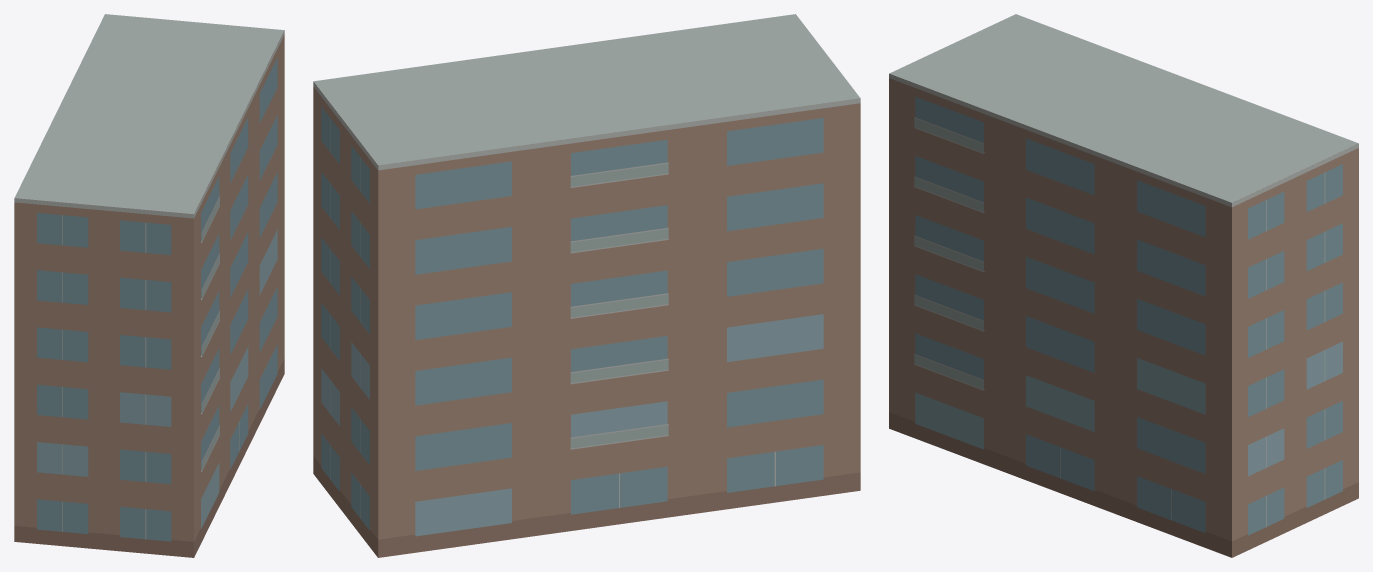
The model's file is survey-upis-32524287.glb.
3 renders of one model, left to right at view 1: azimuth 30°, elevation 25°; view 2: azimuth 150°, elevation 25°; view 3: azimuth 270°, elevation 25°, orthographic. The views are drawn at different scales.
Visible parts, largest first — view 1: survey-upis-32524287.tmp; view 2: survey-upis-32524287.tmp; view 3: survey-upis-32524287.tmp.
Part boxes in pixels (left/top/right/bottom): survey-upis-32524287.tmp: left=14, top=14, right=284, bottom=557; survey-upis-32524287.tmp: left=313, top=14, right=860, bottom=557; survey-upis-32524287.tmp: left=889, top=14, right=1358, bottom=557.
Size of the model in its own units: 22.03 by 19.3 by 23.15.
